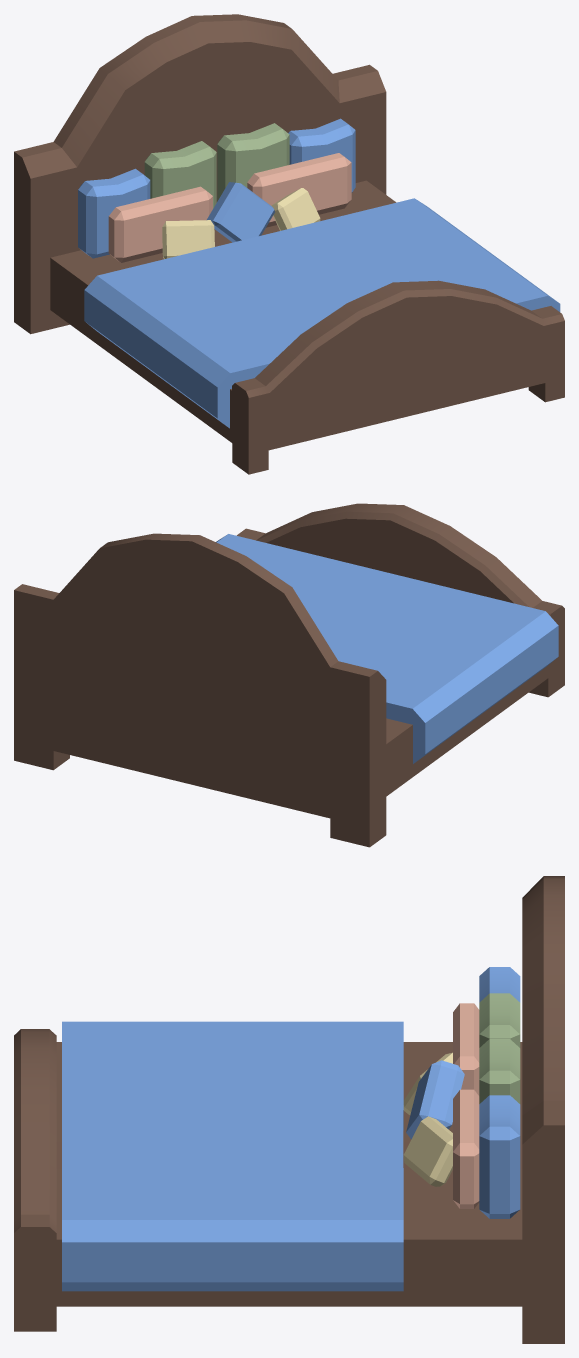
The model's file is geo_HighBed_01.fbx.
3 renders of one model, top to bottom at view 1: azimuth 30°, elevation 25°; view 2: azimuth 150°, elevation 25°; view 3: azimuth 270°, elevation 25°, orthographic. The views are drawn at different scales.
Visible parts, largest first — view 1: geo_BedFrame_01, geo_bedSheetMade_01, geo_bedsheetUnmade_01, geo_pillow_03, geo_pillow_04, geo_pillow_01, geo_pillow_07, geo_pillow_06, geo_pillow_02, geo_pillow_08, geo_pillow_05, geo_pillow_09; view 2: geo_BedFrame_01, geo_bedSheetMade_01, geo_bedsheetUnmade_01; view 3: geo_bedsheetUnmade_01, geo_bedSheetMade_01, geo_BedFrame_01, geo_pillow_08, geo_pillow_04, geo_pillow_02, geo_pillow_09, geo_pillow_07, geo_pillow_03, geo_pillow_06, geo_pillow_01.
Boxes of the visible parts, x1,y1,x2,y2 form: geo_BedFrame_01: (14, 14, 564, 474); geo_bedSheetMade_01: (84, 198, 558, 425); geo_bedsheetUnmade_01: (152, 221, 560, 428); geo_pillow_03: (108, 186, 212, 262); geo_pillow_04: (247, 153, 351, 227); geo_pillow_01: (78, 168, 150, 258); geo_pillow_07: (217, 123, 289, 201); geo_pillow_06: (144, 141, 216, 208); geo_pillow_02: (207, 182, 274, 242); geo_pillow_08: (288, 118, 355, 192); geo_pillow_05: (162, 220, 214, 259); geo_pillow_09: (271, 188, 320, 230); geo_BedFrame_01: (14, 503, 564, 847); geo_bedSheetMade_01: (217, 534, 558, 763); geo_bedsheetUnmade_01: (216, 534, 558, 667); geo_bedsheetUnmade_01: (62, 1021, 325, 1291); geo_bedSheetMade_01: (62, 1021, 403, 1291); geo_BedFrame_01: (14, 876, 564, 1343); geo_pillow_08: (479, 1095, 520, 1218); geo_pillow_04: (453, 1089, 479, 1208); geo_pillow_02: (406, 1060, 464, 1139); geo_pillow_09: (403, 1116, 452, 1186); geo_pillow_07: (479, 1039, 520, 1103); geo_pillow_03: (453, 1003, 479, 1095); geo_pillow_06: (479, 993, 520, 1047); geo_pillow_01: (479, 967, 520, 1002).
Bounding box in the file's own units: 180 × 127 × 188.
